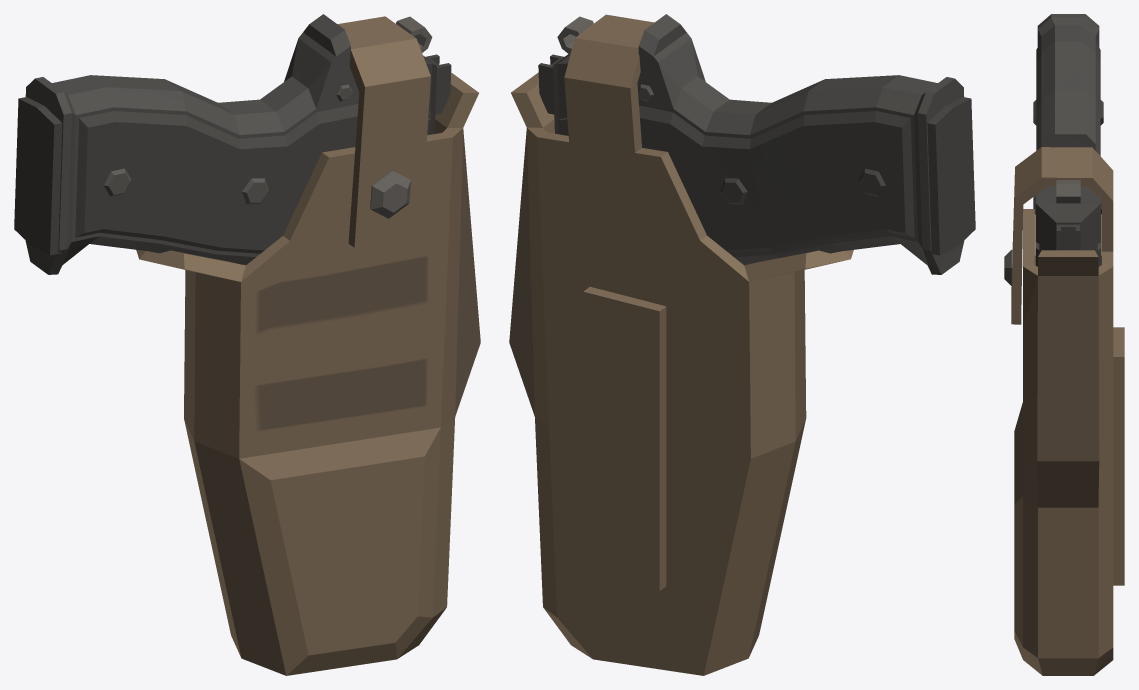
File: Gun_Holster_01_SM.FBX
3 renders of one model, left to right at view 1: azimuth 30°, elevation 25°; view 2: azimuth 150°, elevation 25°; view 3: azimuth 270°, elevation 25°, orthographic. The views are drawn at different scales.
Visible parts, largest first — view 1: Gun_Holster_01_SM; view 2: Gun_Holster_01_SM; view 3: Gun_Holster_01_SM.
Part boxes in pixels (left/top/right/bottom): Gun_Holster_01_SM: left=14, top=14, right=480, bottom=675; Gun_Holster_01_SM: left=509, top=14, right=975, bottom=675; Gun_Holster_01_SM: left=1004, top=14, right=1124, bottom=675.
Size of what is drawn, in the model's own units: 15.06 by 4.46 by 21.26.
